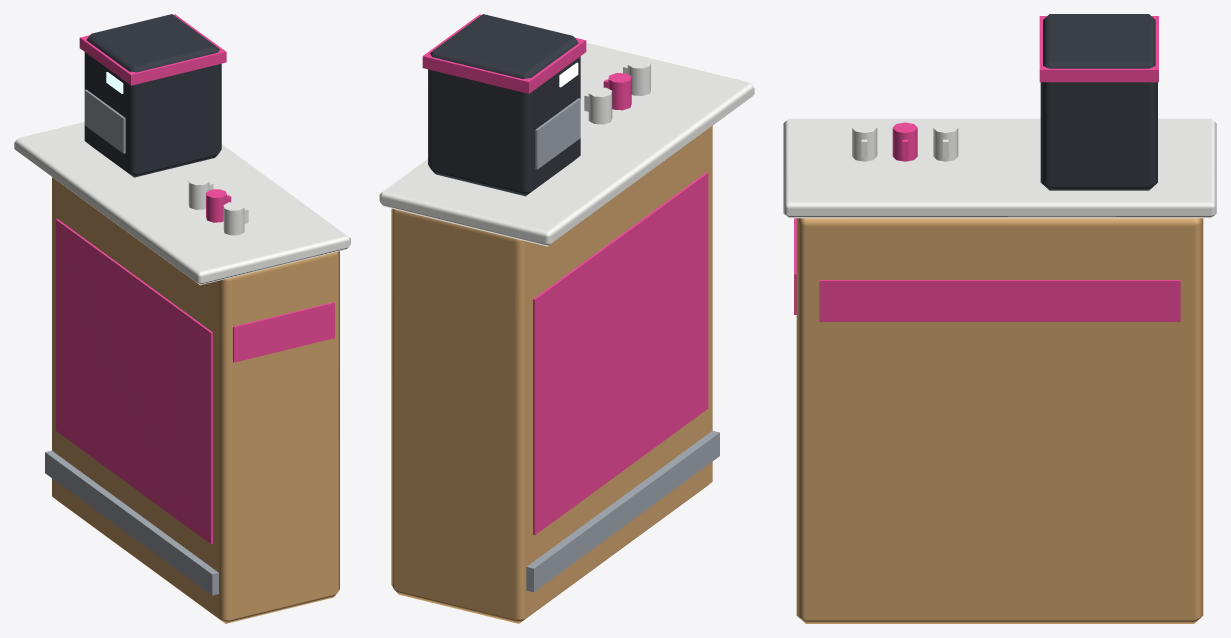
Rendered from station_special_ausstattung_3_2.glb.
The picture shows the model from 3 angles, left to right: view 1: azimuth 30°, elevation 25°; view 2: azimuth 150°, elevation 25°; view 3: azimuth 270°, elevation 25°; orthographic projection. The views are drawn at different scales.
Parts seen in each view (by area): view 1: station_special_ausstattung_3_2; view 2: station_special_ausstattung_3_2; view 3: station_special_ausstattung_3_2.
Boxes of the visible parts, x1,y1,x2,y2 form: station_special_ausstattung_3_2: (14,14,350,623); station_special_ausstattung_3_2: (379,14,754,623); station_special_ausstattung_3_2: (783,14,1216,623).
Bounding box in the file's own units: 0.46 × 1.36 × 0.96.
